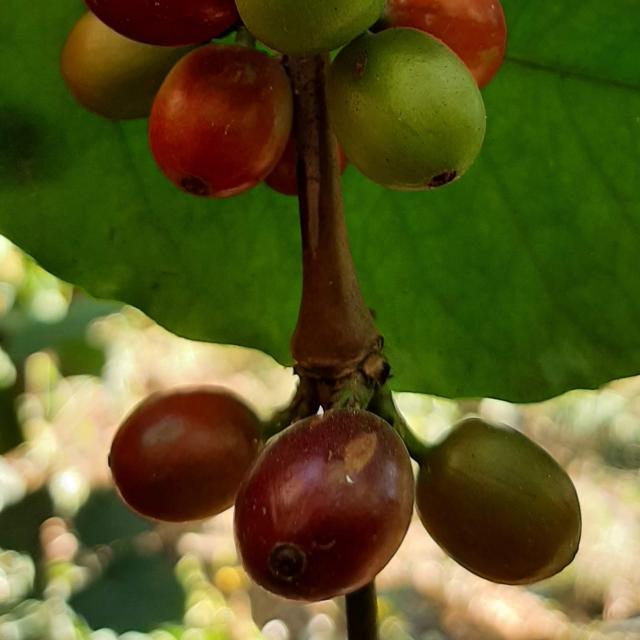green: (326, 27, 487, 190), (235, 0, 386, 55)
red: (234, 409, 415, 602), (148, 43, 293, 198), (108, 387, 262, 522), (379, 0, 508, 88), (83, 0, 238, 45)
yellow: (417, 419, 583, 585), (59, 11, 197, 119), (264, 132, 297, 195), (338, 144, 349, 173)
